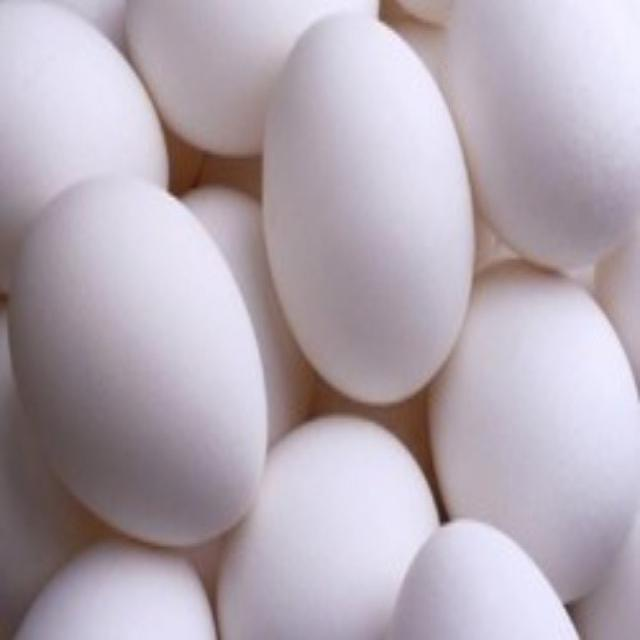Egg: (10, 178, 266, 546), (264, 15, 474, 403), (430, 263, 640, 603), (218, 417, 439, 639), (0, 3, 168, 291), (126, 3, 378, 154), (389, 519, 578, 640)
